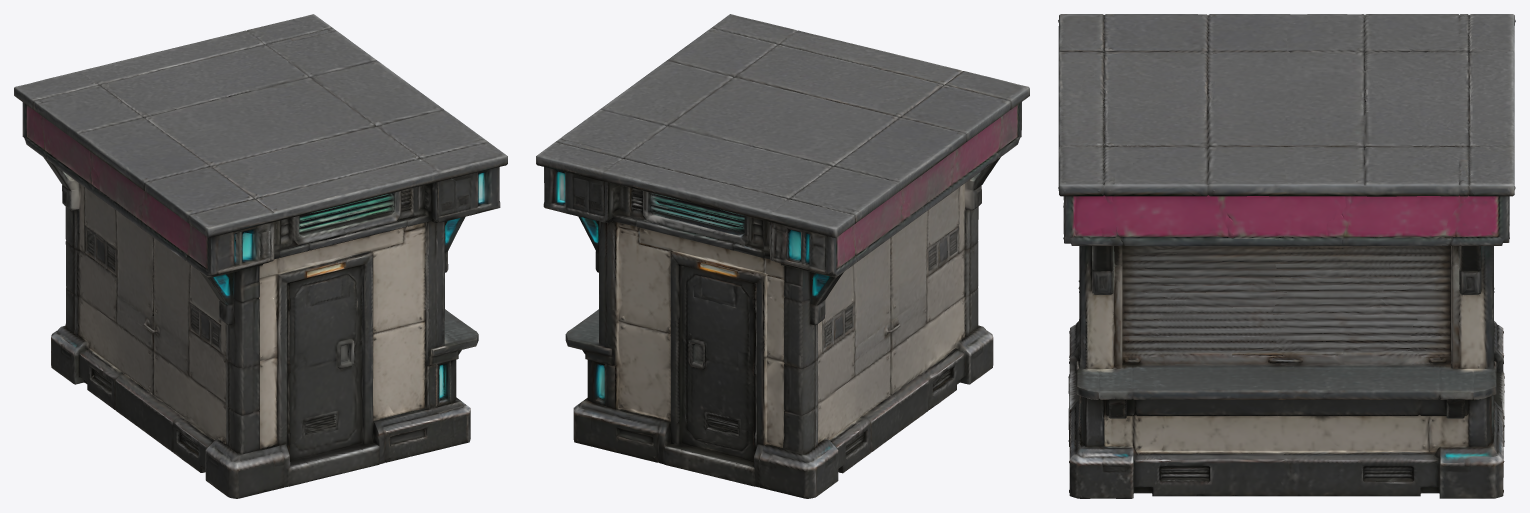
The model's file is kairox-closed-kiosk.glb.
The picture shows the model from 3 angles, left to right: view 1: azimuth 30°, elevation 25°; view 2: azimuth 150°, elevation 25°; view 3: azimuth 270°, elevation 25°; orthographic projection. The views are drawn at different scales.
Visible parts, largest first — view 1: kairox-closed-kiosk; view 2: kairox-closed-kiosk; view 3: kairox-closed-kiosk.
Boxes of the visible parts, left/top/right/bottom form: kairox-closed-kiosk: left=14, top=14, right=507, bottom=498; kairox-closed-kiosk: left=536, top=14, right=1029, bottom=498; kairox-closed-kiosk: left=1058, top=14, right=1515, bottom=498.
Size of the model in its own units: 3.57 by 3.2 by 4.
1 material, 1 textured.
